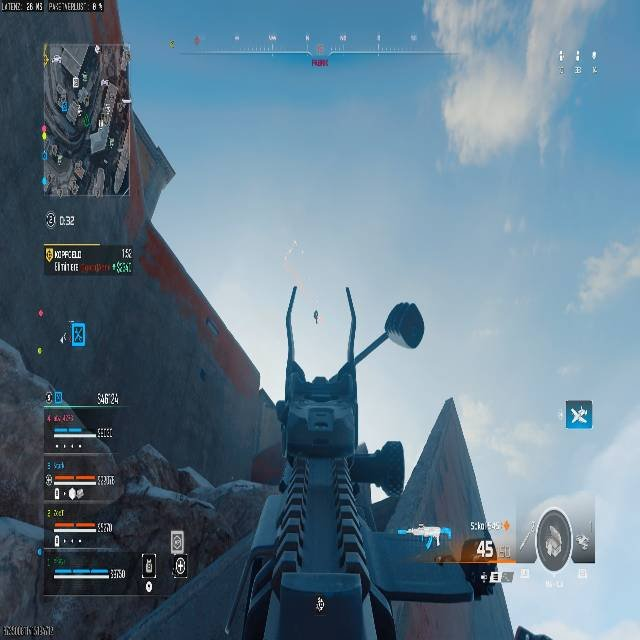player: (98, 444, 255, 596)
